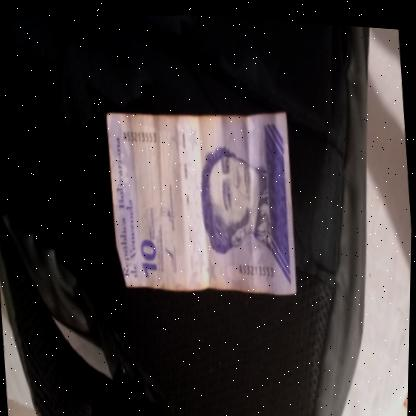ten-front-vef: (102, 95, 304, 307)
